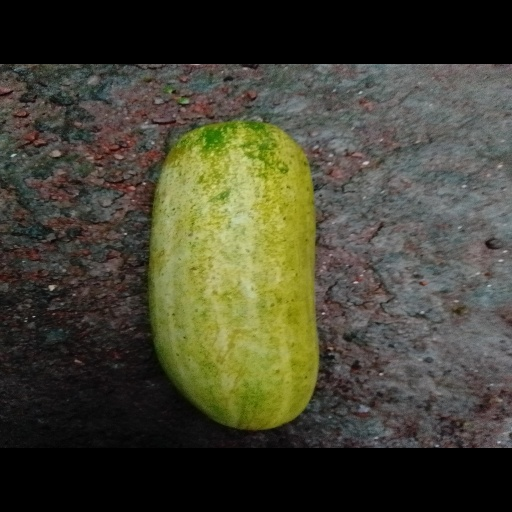concombre: (147, 120, 321, 433)
